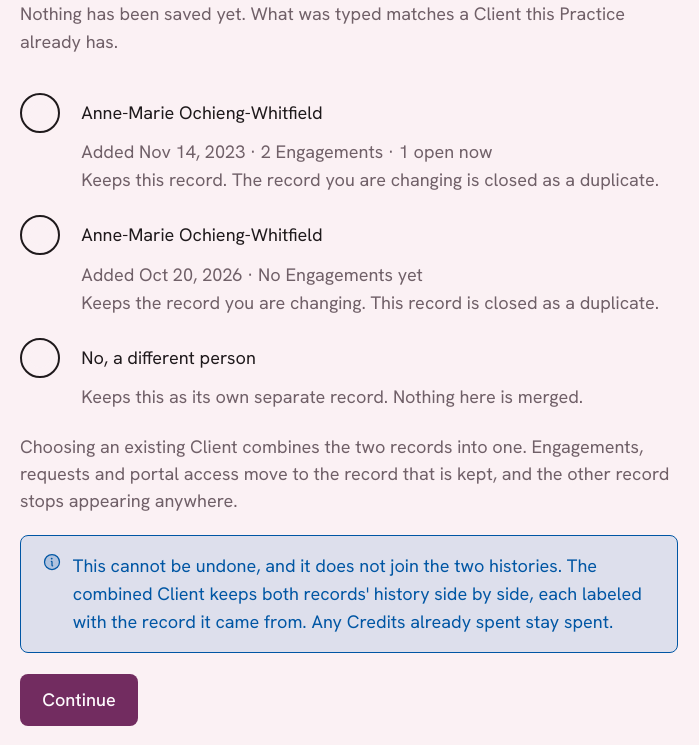
Test: when gate two names a possible duplicate › refuses to go on until one of them is chosen
(page scrolled)
Click the button "Continue": [79, 700] box [20,674,138,726]
(page scrolled)
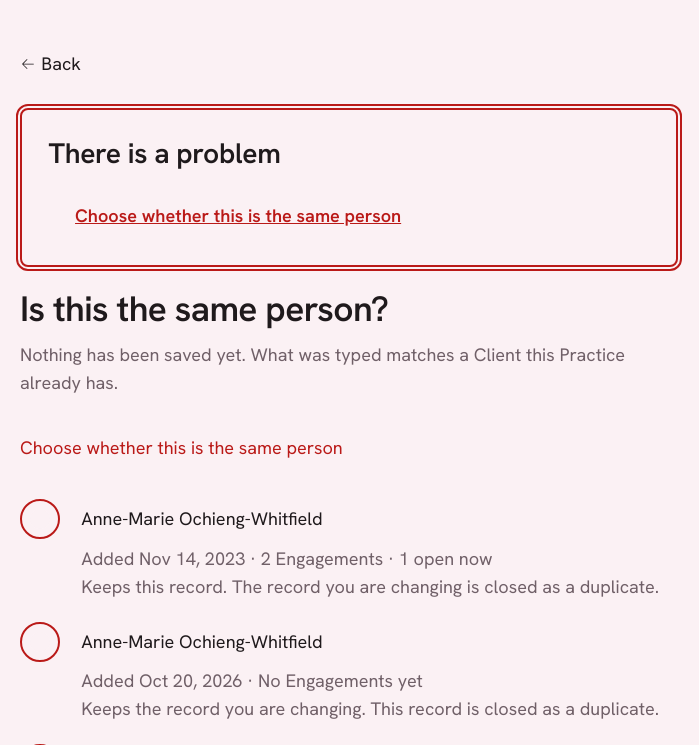
expect the link "Choose whether this is the same person" is shown: met, box [75,204,401,227]
